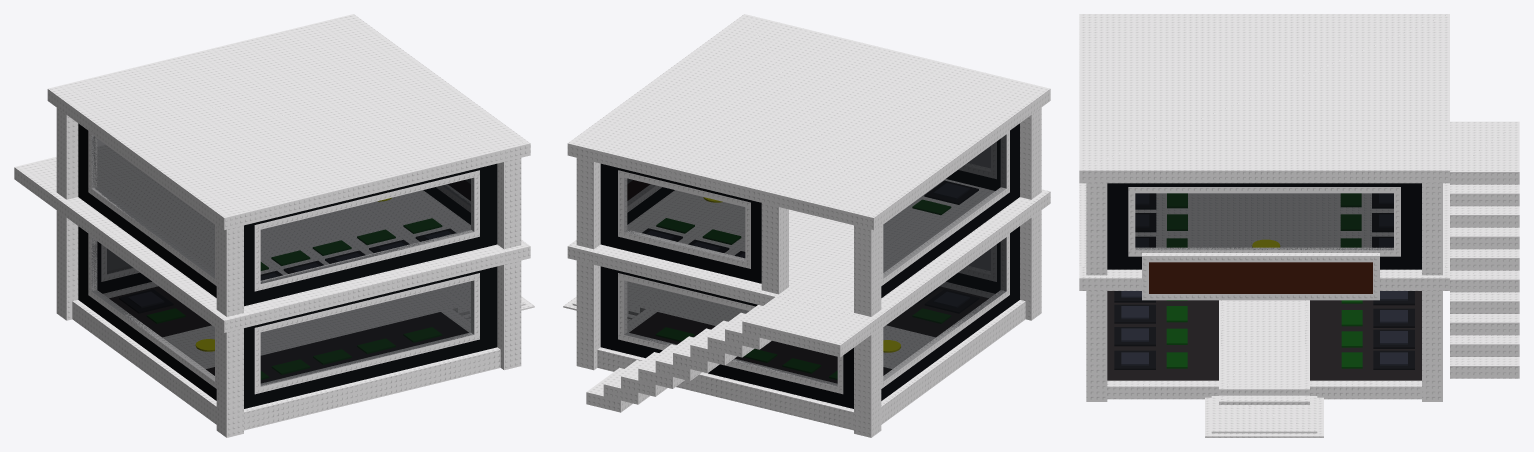
3 views of the same model, side by side, from view 1: azimuth 30°, elevation 25°; view 2: azimuth 150°, elevation 25°; view 3: azimuth 270°, elevation 25° (orthographic). The views are drawn at different scales.
Visible parts, largest first — view 1: StructureBaseHome4, StructureBaseHome73, StructureBaseHome59, StructureBaseHome18, StructureBaseHome31, StructureBaseHome41, StructureBaseHome16, StructureBaseHome60, StructureBaseHome23, StructureBaseHome17, Part2, StructureBaseHome33 (+33 smaller); view 2: StructureBaseHome4, StructureBaseHome18, StructureBaseHome88, StructureBaseHome31, StructureBaseHome41, StructureBaseHome91, StructureBaseHome15, StructureBaseHome5, StructureBaseHome17, StructureBaseHome80, StructureBaseHome33, Part1 (+44 smaller); view 3: StructureBaseHome4, StructureBaseHome51, StructureBaseHome18, StructureBaseHome23, Plotsign1, Part2, Part1, StructureBaseHome5, StructureBaseHome2, StructureBaseHome3, StructureBaseHome56, StructureBaseHome81 (+34 smaller).
Boxes of the visible parts, x1,y1,x2,y2 form: StructureBaseHome4: [47, 14, 530, 229]; StructureBaseHome73: [260, 178, 473, 283]; StructureBaseHome59: [260, 281, 473, 386]; StructureBaseHome18: [103, 179, 470, 274]; StructureBaseHome31: [91, 238, 214, 381]; StructureBaseHome41: [91, 135, 214, 278]; StructureBaseHome16: [211, 244, 507, 332]; StructureBaseHome60: [244, 347, 500, 430]; StructureBaseHome23: [166, 290, 453, 366]; StructureBaseHome17: [61, 197, 216, 322]; Part2: [206, 312, 468, 382]; StructureBaseHome33: [72, 300, 216, 424]; StructureBaseHome4: [567, 14, 1050, 229]; StructureBaseHome18: [627, 179, 994, 302]; StructureBaseHome88: [624, 280, 837, 386]; StructureBaseHome31: [883, 237, 1006, 380]; StructureBaseHome41: [883, 134, 1006, 278]; StructureBaseHome91: [624, 178, 745, 261]; StructureBaseHome15: [590, 244, 887, 332]; StructureBaseHome5: [742, 297, 873, 357]; StructureBaseHome17: [881, 197, 1037, 322]; StructureBaseHome80: [597, 347, 853, 430]; StructureBaseHome33: [881, 300, 1025, 424]; Part1: [629, 312, 891, 383]; StructureBaseHome4: [1079, 14, 1449, 183]; StructureBaseHome51: [1135, 193, 1393, 250]; StructureBaseHome18: [1135, 193, 1393, 247]; StructureBaseHome23: [1226, 300, 1302, 395]; Plotsign1: [1149, 262, 1372, 293]; Part2: [1107, 291, 1218, 380]; Part1: [1310, 291, 1421, 380]; StructureBaseHome5: [1450, 121, 1519, 184]; StructureBaseHome2: [1211, 396, 1317, 433]; StructureBaseHome3: [1079, 266, 1449, 290]; StructureBaseHome56: [1086, 291, 1107, 401]; StructureBaseHome81: [1422, 291, 1442, 401].
Bounding box in the file's own units: 64.13 × 37 × 63.
18 materials, 9 textured.
